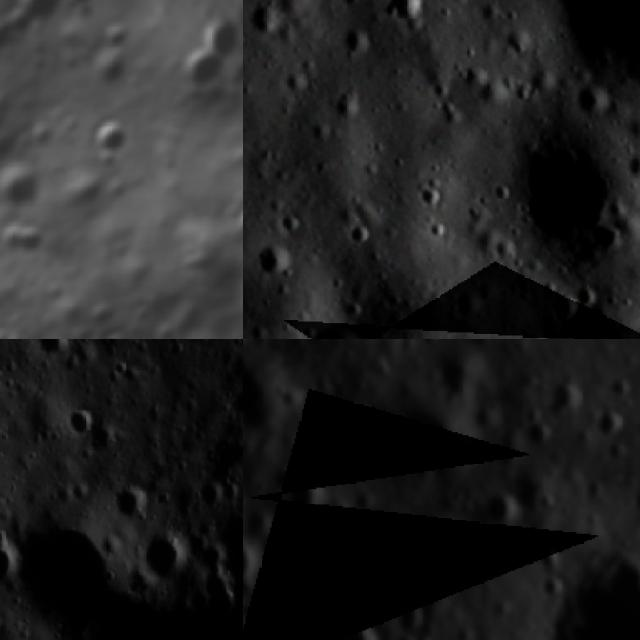crater: (492, 104, 640, 277), (494, 0, 640, 106), (18, 506, 140, 632), (512, 526, 640, 640), (372, 386, 490, 494), (243, 340, 316, 451), (166, 36, 233, 102), (0, 148, 54, 221), (80, 105, 140, 167), (406, 511, 465, 572), (286, 302, 383, 339), (426, 346, 486, 403), (141, 525, 197, 584), (566, 72, 621, 126), (320, 74, 374, 129), (243, 231, 298, 284), (537, 368, 590, 422), (281, 472, 332, 526), (568, 294, 625, 339), (336, 14, 384, 66), (243, 523, 274, 603), (477, 483, 528, 531), (243, 0, 290, 50), (285, 562, 331, 612), (540, 283, 586, 331), (405, 172, 452, 217), (375, 0, 438, 33), (586, 401, 634, 444), (7, 0, 70, 32), (485, 223, 529, 268), (446, 281, 492, 324), (491, 19, 536, 62), (528, 563, 568, 608), (114, 480, 150, 529), (596, 370, 640, 408), (270, 198, 311, 238), (274, 537, 314, 578), (338, 213, 378, 253), (564, 271, 604, 311), (339, 394, 375, 438), (391, 596, 431, 633), (416, 211, 454, 248), (59, 400, 96, 438), (0, 528, 21, 594), (484, 174, 520, 209), (465, 0, 505, 31), (196, 475, 228, 512), (223, 194, 243, 250), (36, 276, 70, 308), (218, 473, 243, 512), (618, 142, 640, 186), (35, 339, 81, 360), (89, 323, 141, 339), (381, 624, 428, 640), (624, 477, 640, 520), (70, 476, 94, 504), (232, 289, 243, 335)
